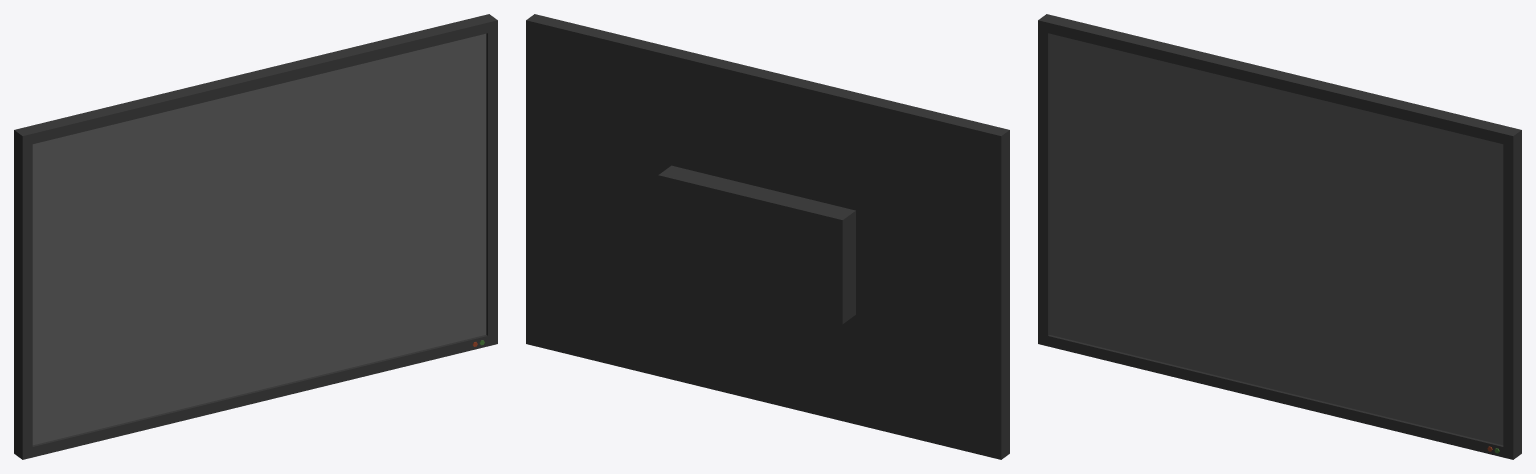
The model's file is SM_Props_TV_01.fbx.
The picture shows the model from 3 angles, left to right: view 1: azimuth 30°, elevation 25°; view 2: azimuth 150°, elevation 25°; view 3: azimuth 330°, elevation 25°; orthographic projection.
Visible parts, largest first — view 1: SM_Props_TV_01; view 2: SM_Props_TV_01; view 3: SM_Props_TV_01.
Part boxes in pixels (box(x1,y1,x2,y2)): SM_Props_TV_01: box(14, 14, 497, 459); SM_Props_TV_01: box(526, 14, 1009, 459); SM_Props_TV_01: box(1038, 14, 1521, 459).
Size of the model in its own units: 0.96 by 0.625 by 0.0782.
